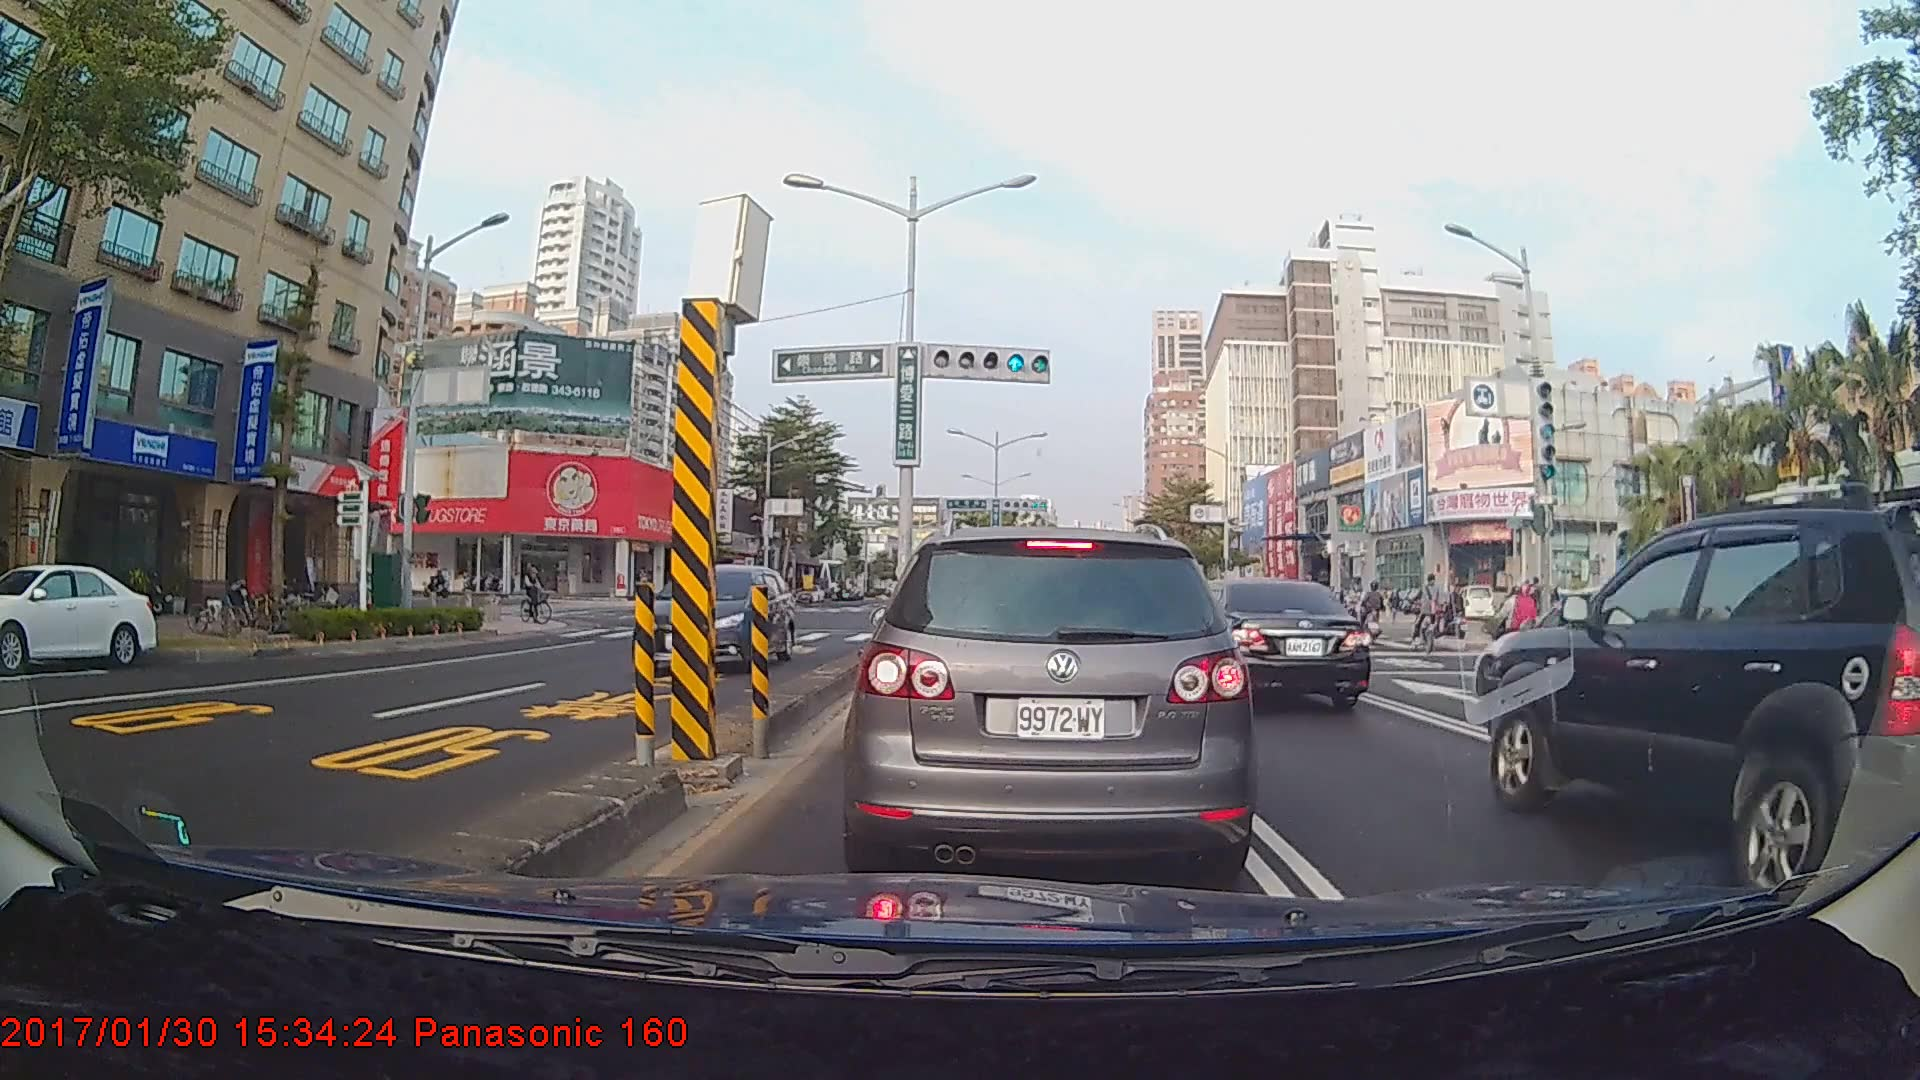rider: (1411, 570, 1448, 658), (518, 559, 561, 629), (1436, 582, 1473, 646), (430, 563, 455, 603)
vehicle: (1486, 502, 1920, 885), (855, 525, 1242, 879), (1164, 575, 1374, 710), (636, 562, 797, 677), (0, 561, 156, 671)
